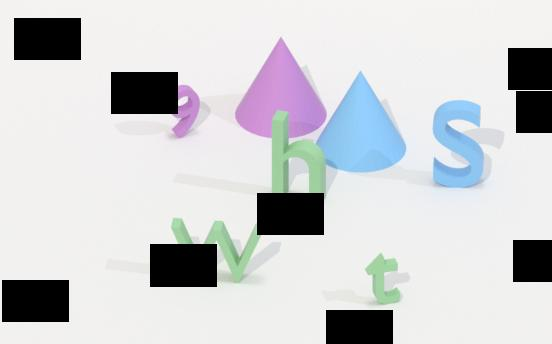9: (161, 81, 206, 146)
h: (266, 102, 331, 211)
non: (232, 32, 331, 143), (314, 63, 409, 177)
s: (430, 96, 486, 192)
t: (365, 252, 403, 307)
w: (169, 209, 267, 291)
